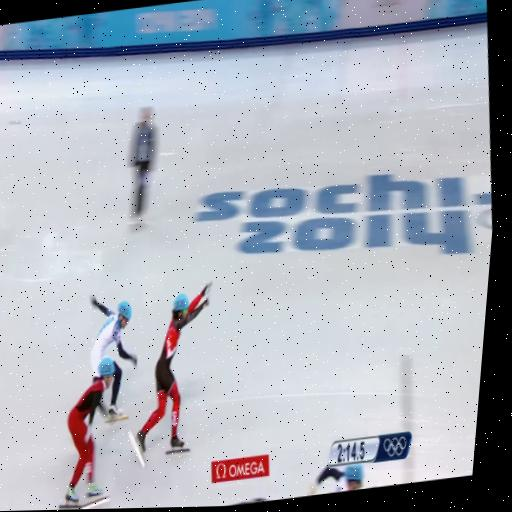Skater: (130, 283, 211, 464), (62, 358, 115, 508), (90, 296, 136, 379), (308, 464, 364, 494)
